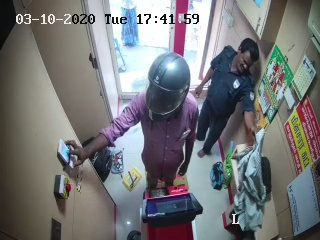helmet: (141, 53, 195, 124)
